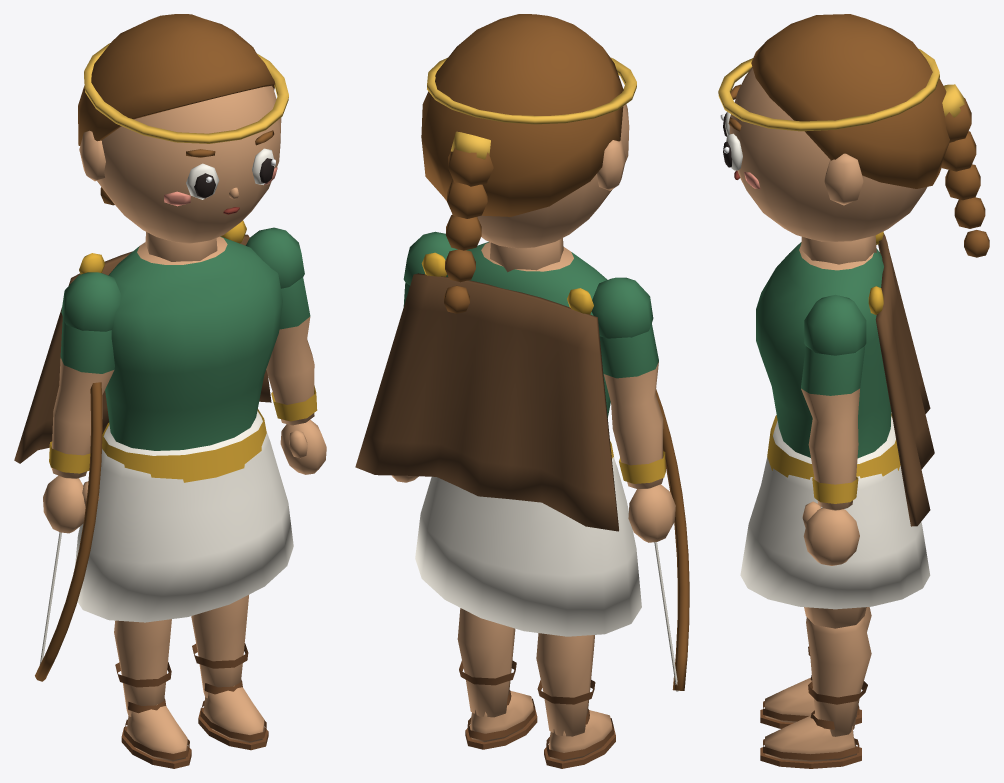
File: atalante.glb
3 renders of one model, left to right at view 1: azimuth 30°, elevation 25°; view 2: azimuth 150°, elevation 25°; view 3: azimuth 270°, elevation 25°, orthographic. The views are drawn at different scales.
Parts seen in each view (by area): view 1: rumpf, huefte, kopf, haare, armL, armR, knieL, knieR, umhang, itemL, kopfschmuck, augeL (+1 smaller); view 2: umhang, haare, huefte, armL, knieL, knieR, kopf, rumpf, itemL, kopfschmuck, armR; view 3: haare, huefte, kopf, rumpf, armR, knieR, umhang, kopfschmuck, knieL, beinR, augeR.
Part boxes in pixels (left/top/right/bottom): rumpf: left=102, top=236, right=282, bottom=482; huefte: left=75, top=411, right=293, bottom=622; kopf: left=79, top=86, right=281, bottom=261; haare: left=78, top=14, right=275, bottom=205; armL: left=43, top=272, right=121, bottom=533; armR: left=245, top=227, right=326, bottom=474; knieL: left=114, top=619, right=191, bottom=768; knieR: left=191, top=595, right=268, bottom=750; umhang: left=14, top=220, right=271, bottom=463; itemL: left=35, top=382, right=102, bottom=681; kopfschmuck: left=84, top=43, right=288, bottom=143; augeL: left=186, top=163, right=219, bottom=199; umhang: left=355, top=252, right=618, bottom=531; haare: left=421, top=14, right=623, bottom=313; huefte: left=415, top=457, right=641, bottom=636; armL: left=591, top=277, right=675, bottom=542; knieL: left=536, top=633, right=615, bottom=768; knieR: left=457, top=608, right=537, bottom=749; kopf: left=444, top=104, right=629, bottom=272; rumpf: left=446, top=242, right=613, bottom=458; itemL: left=654, top=389, right=689, bottom=691; kopfschmuck: left=427, top=57, right=636, bottom=124; armR: left=391, top=231, right=457, bottom=482; haare: left=751, top=14, right=989, bottom=257; huefte: left=740, top=416, right=930, bottom=609; kopf: left=729, top=67, right=927, bottom=264; rumpf: left=756, top=242, right=900, bottom=479; armR: left=801, top=294, right=866, bottom=565; knieR: left=760, top=617, right=871, bottom=768; umhang: left=868, top=231, right=934, bottom=526; kopfschmuck: left=718, top=49, right=939, bottom=131; knieL: left=760, top=607, right=871, bottom=728; beinR: left=804, top=607, right=866, bottom=628; augeR: left=723, top=133, right=742, bottom=170.
Size of the model in its own units: 0.9719 by 2.29 by 0.7864.
